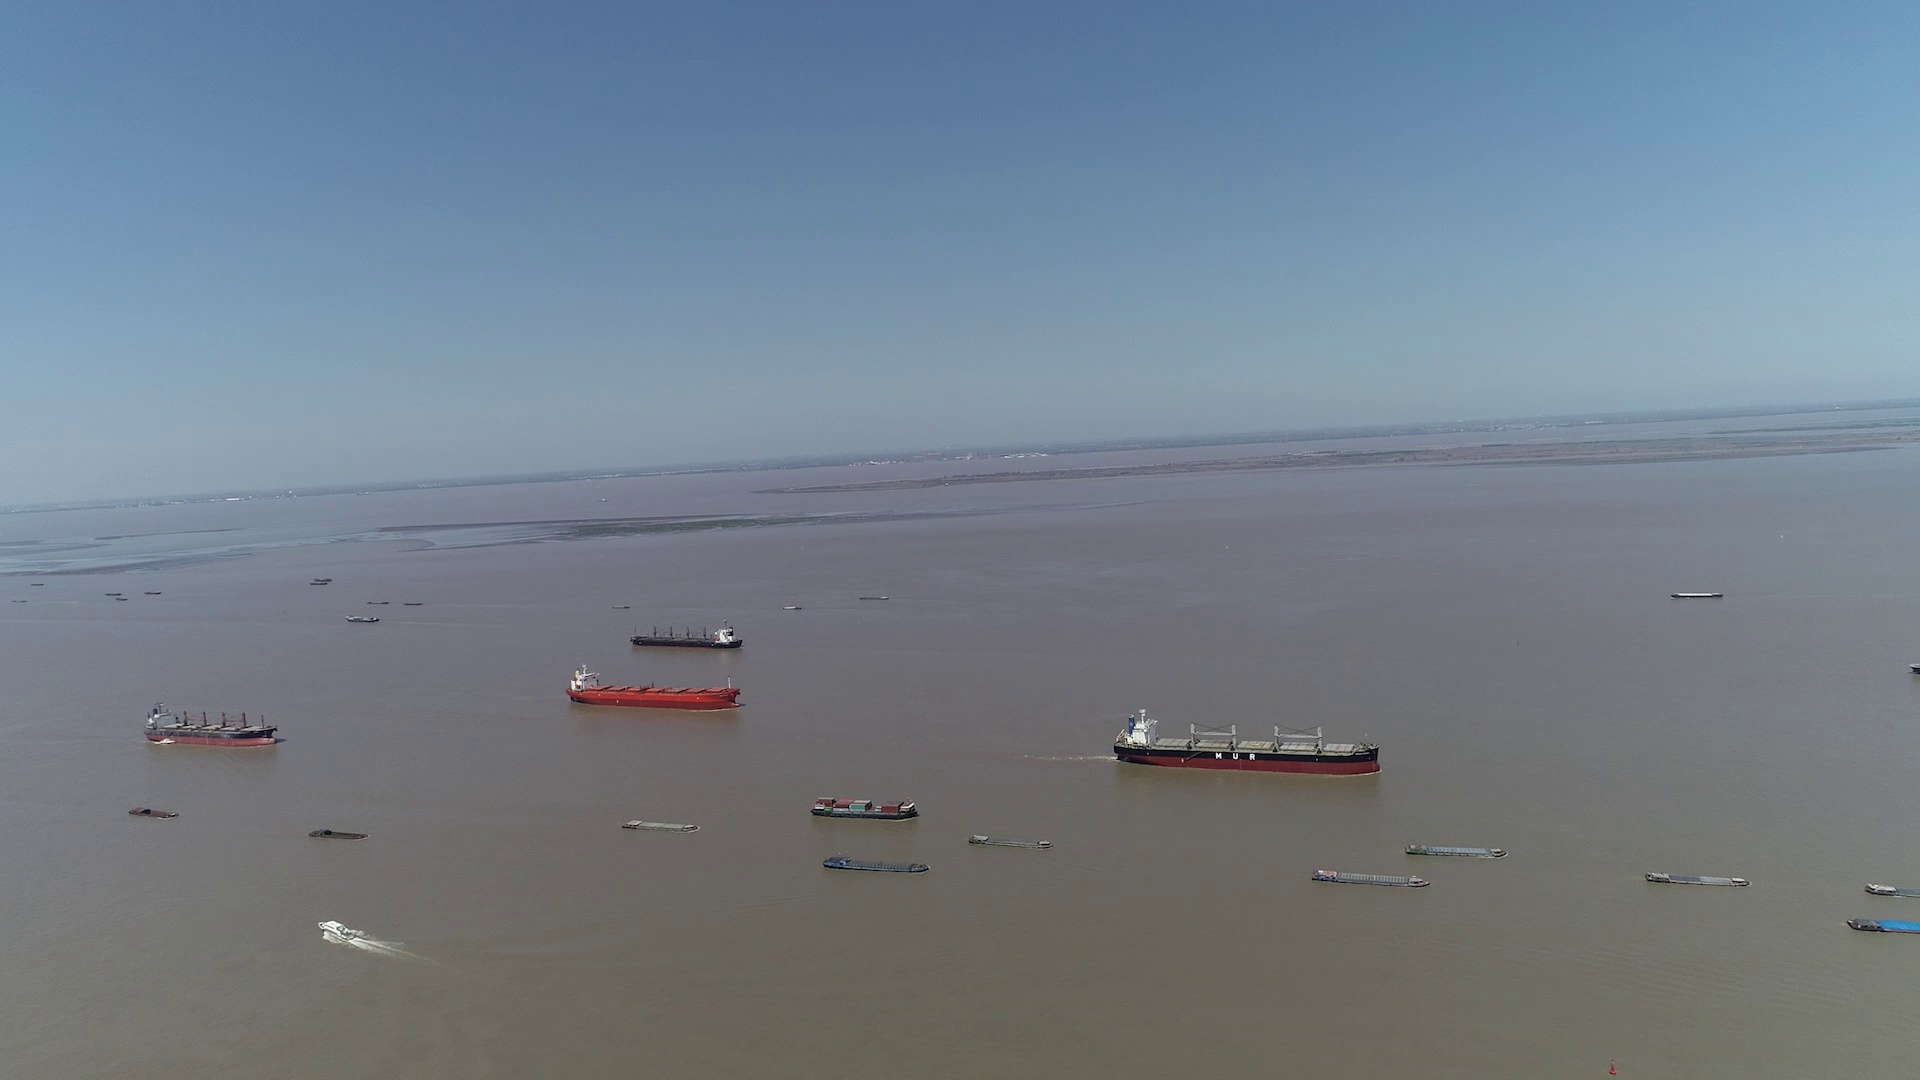ship: (1112, 707, 1379, 775), (564, 665, 738, 712), (144, 702, 277, 748), (630, 622, 742, 650), (1313, 866, 1429, 887), (811, 795, 919, 818), (1847, 909, 1919, 938), (1853, 895, 1919, 926), (823, 855, 928, 873), (1644, 869, 1749, 887), (1400, 840, 1503, 858), (967, 833, 1054, 851), (618, 818, 700, 833), (1866, 882, 1917, 899), (316, 918, 352, 939), (309, 828, 371, 840), (127, 806, 177, 819), (1671, 591, 1722, 597), (345, 613, 382, 621)
